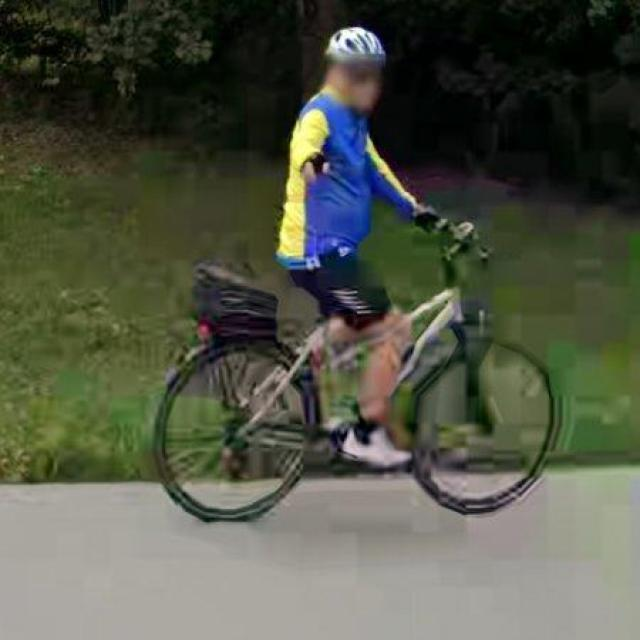bicycle: (155, 263, 371, 524), (391, 289, 562, 517)
